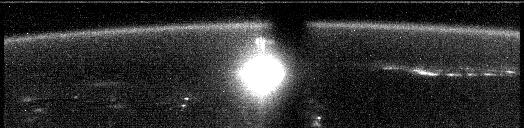positive: (250, 35, 269, 56)
